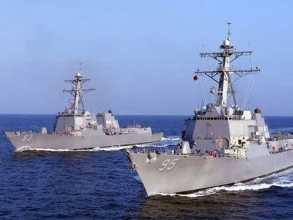warship: (129, 21, 293, 188), (5, 65, 170, 153)
